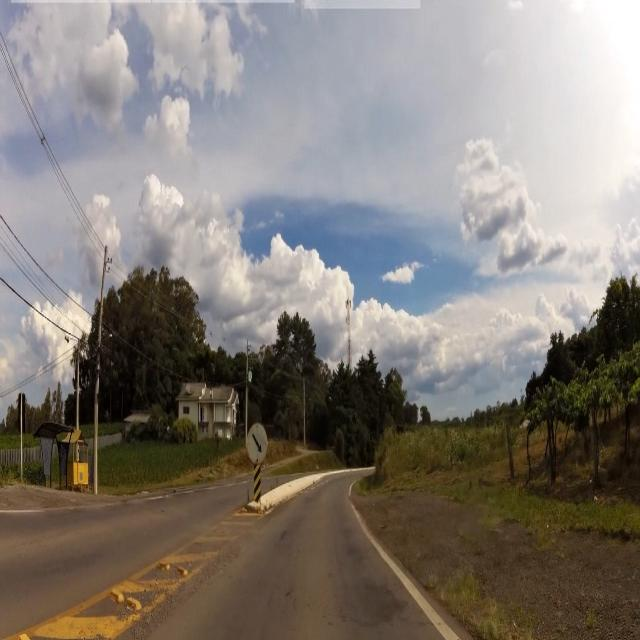R-24b: (248, 417, 268, 468)
